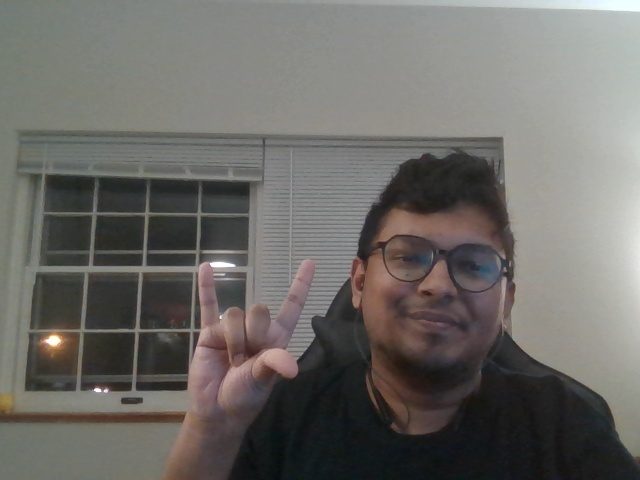ilikeyou: (180, 253, 328, 428)
